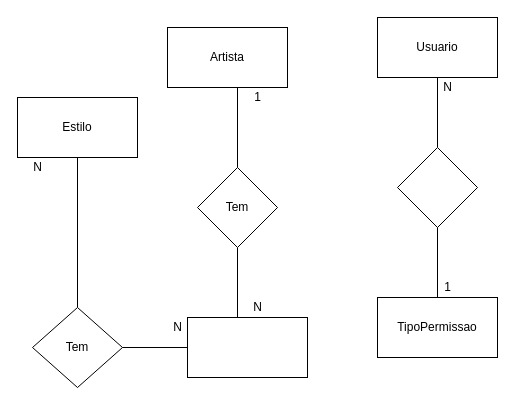
Image size: 515x405. Some labels were removed from this diagram. The box of each missing label's shape, as (x1, y1, x2, y2) in pixels:
Album: (186, 316, 308, 378)
Possui: (396, 146, 478, 228)
